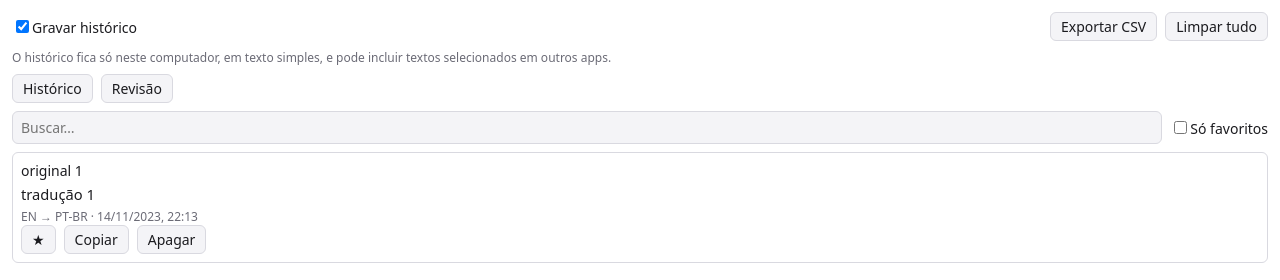
HistoryApp — ações › drops an entry from the favorites-only list when it is unfavorited
Click the checkbox labelled "Só favoritos" at {"x": 1181, "y": 127}, box 1174,120 -> 1187,134
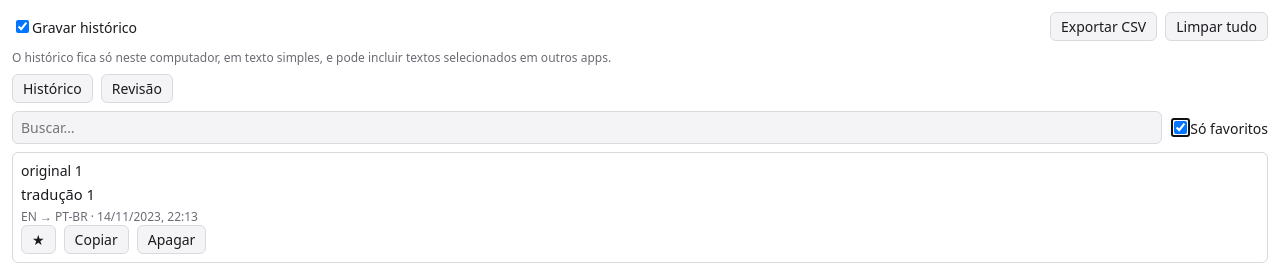
Click the button named "Favorito:" at {"x": 38, "y": 240}, box 21,225 -> 56,254
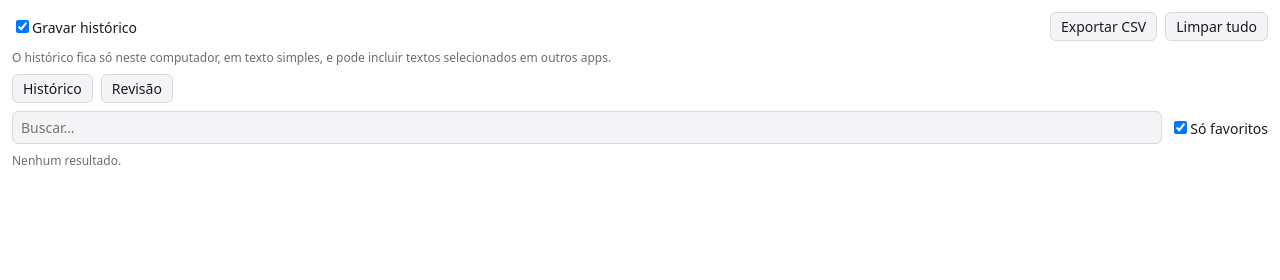
Expected: the text "original 1" is gone
